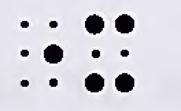dot_5: (20, 19, 64, 86)
two_cell_alphabet_eksamen: (85, 14, 135, 93)
